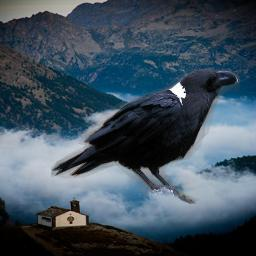Crow: (51, 69, 240, 205)
